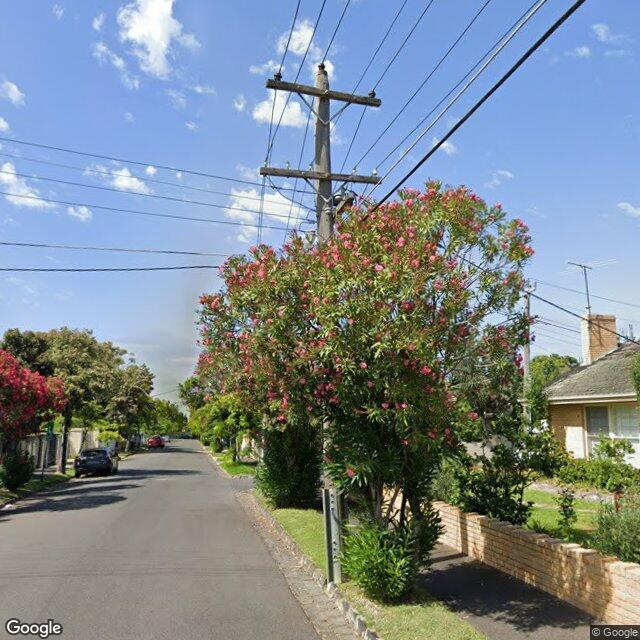HV-transmission: (266, 63, 382, 109)
crossarm: (266, 79, 382, 108), (260, 162, 383, 186), (333, 194, 354, 223)
timber-pole: (314, 69, 350, 583), (523, 294, 530, 415)
